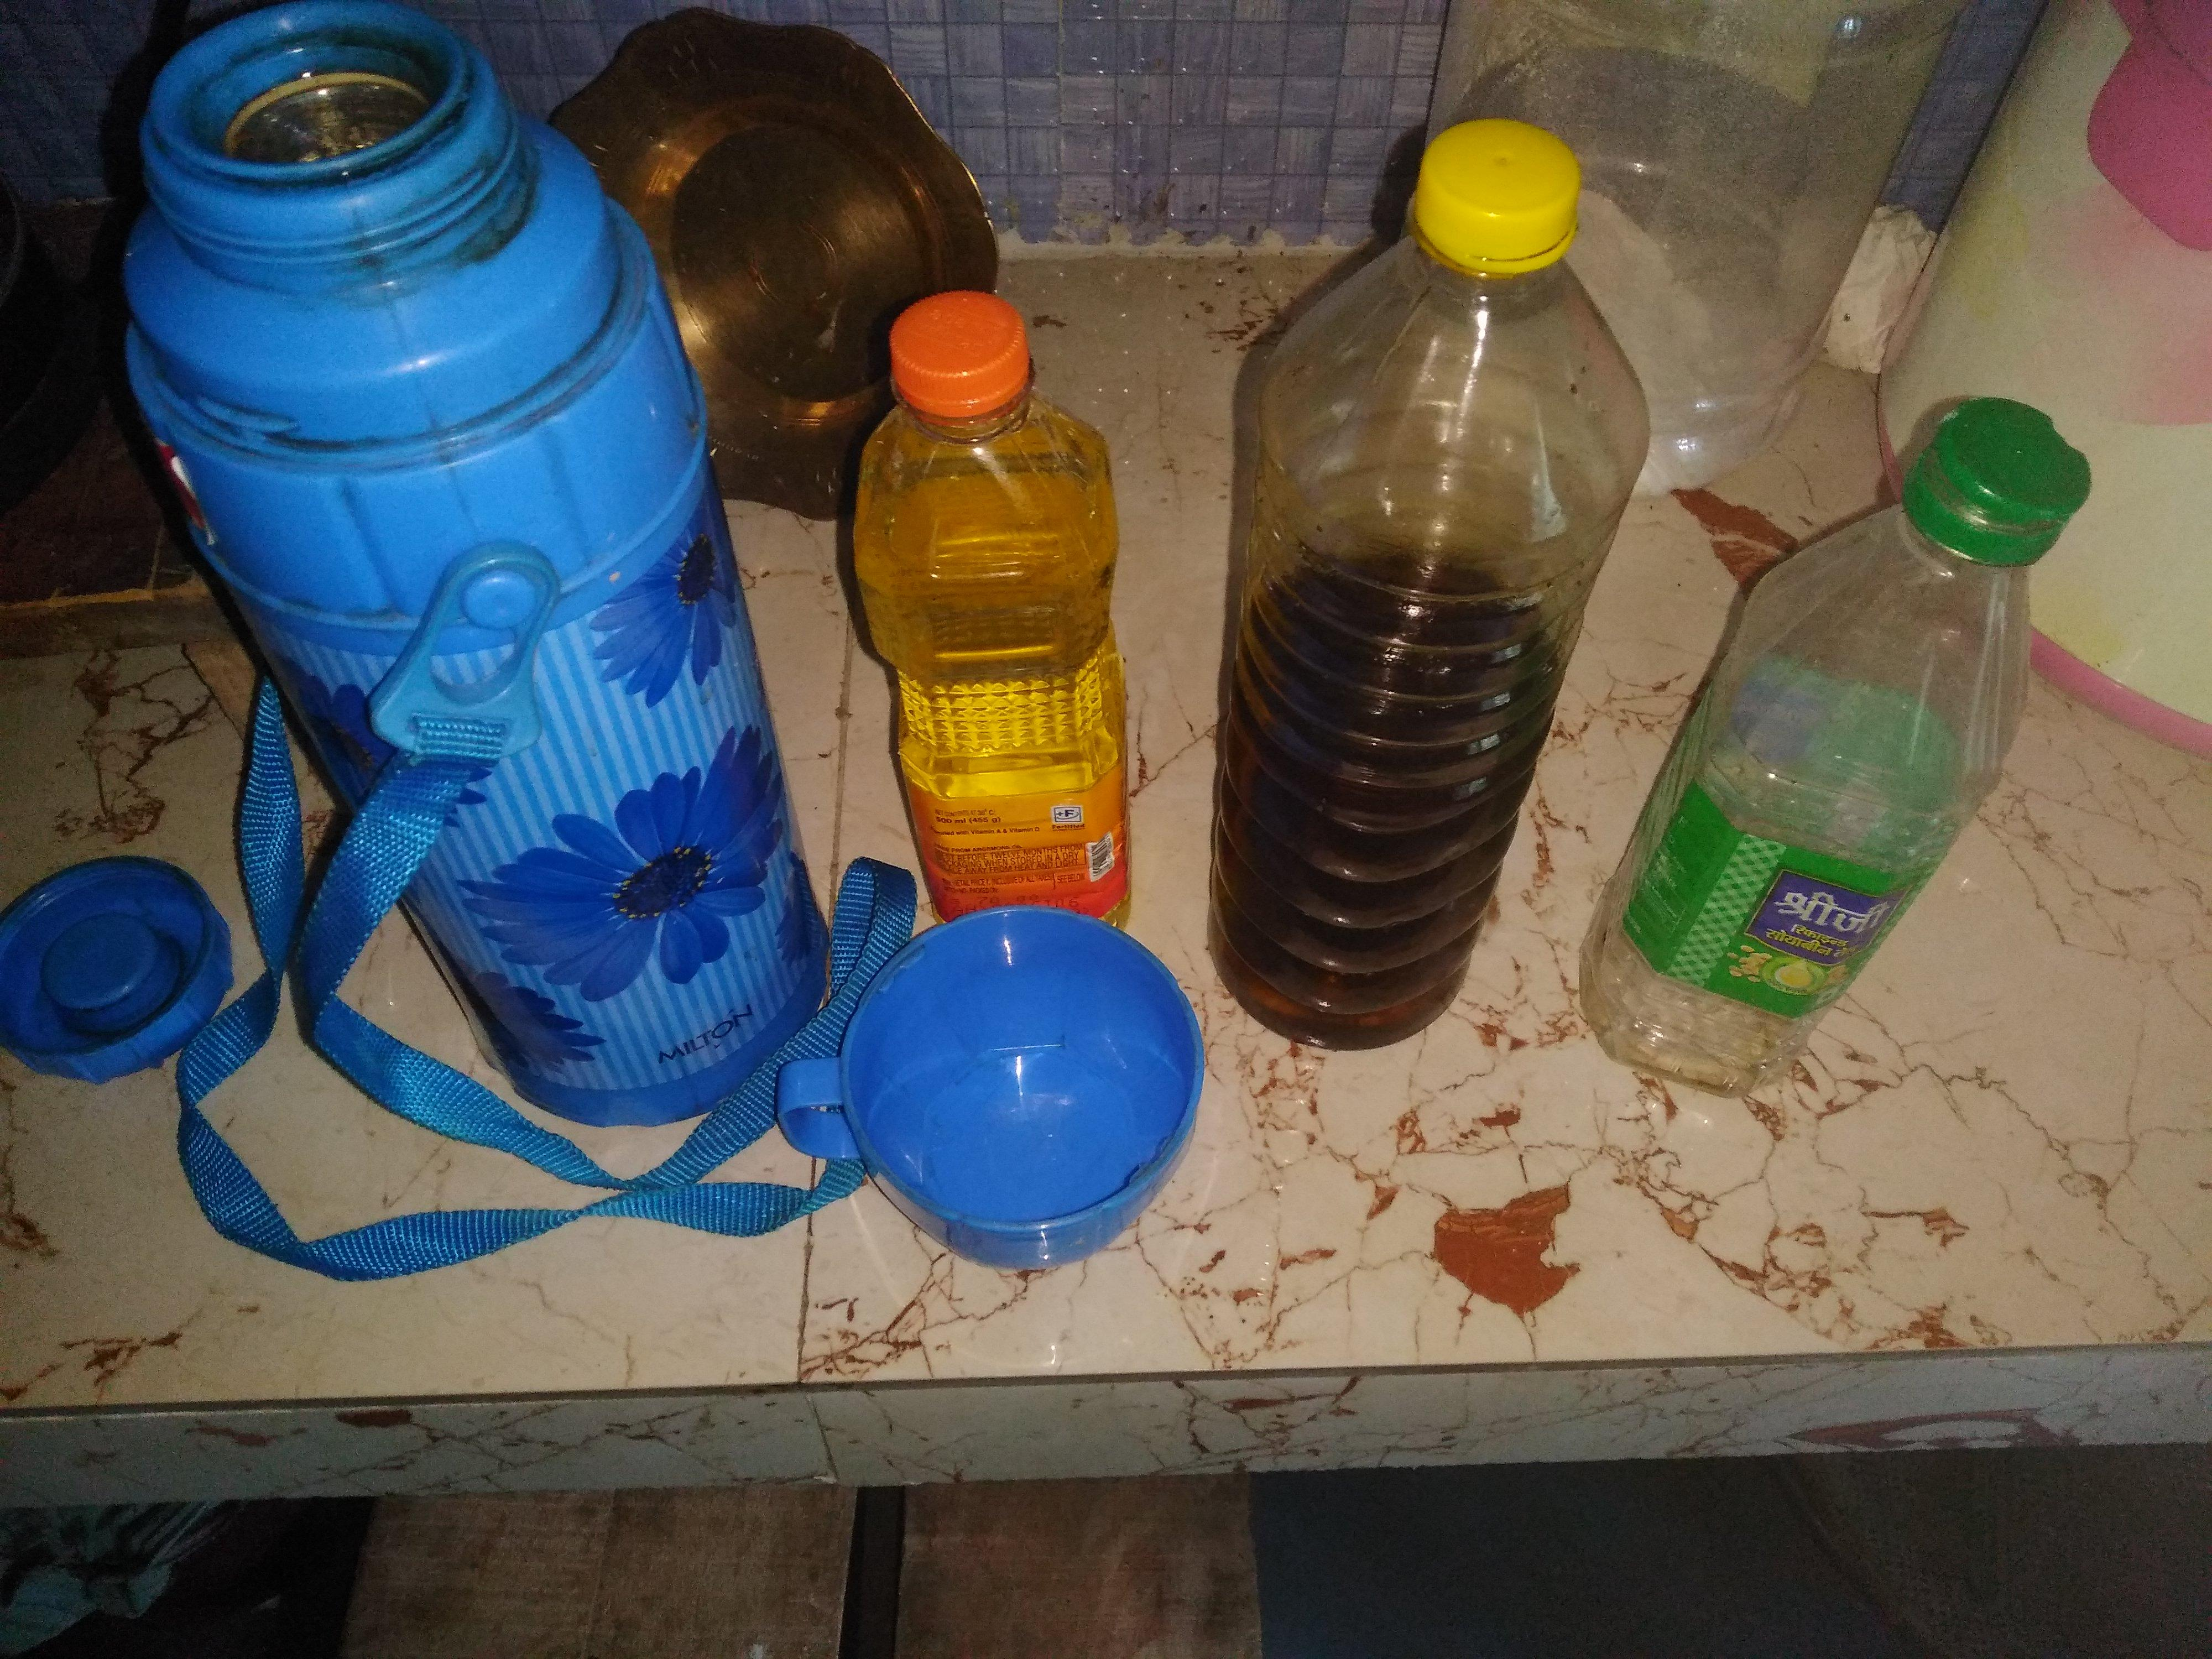bottle: (665, 1150, 1557, 1591), (16, 68, 214, 633)
